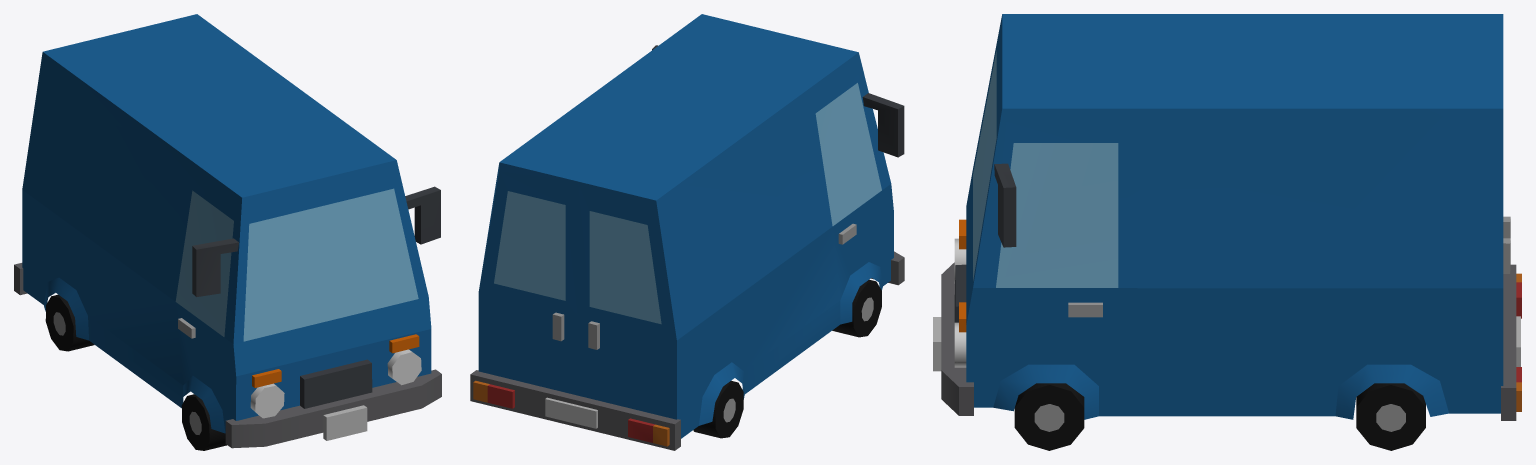
File: Car_10_blue.fbx
The picture shows the model from 3 angles, left to right: view 1: azimuth 30°, elevation 25°; view 2: azimuth 150°, elevation 25°; view 3: azimuth 270°, elevation 25°; orthographic projection. The views are drawn at different scales.
Parts seen in each view (by area): view 1: Car_10_blue; view 2: Car_10_blue; view 3: Car_10_blue.
Boxes of the visible parts, x1=… form: Car_10_blue: x1=14, y1=14, x2=441, y2=450; Car_10_blue: x1=470, y1=14, x2=904, y2=450; Car_10_blue: x1=933, y1=14, x2=1521, y2=450.
Bounding box in the file's own units: 61.18 × 61.89 × 102.
